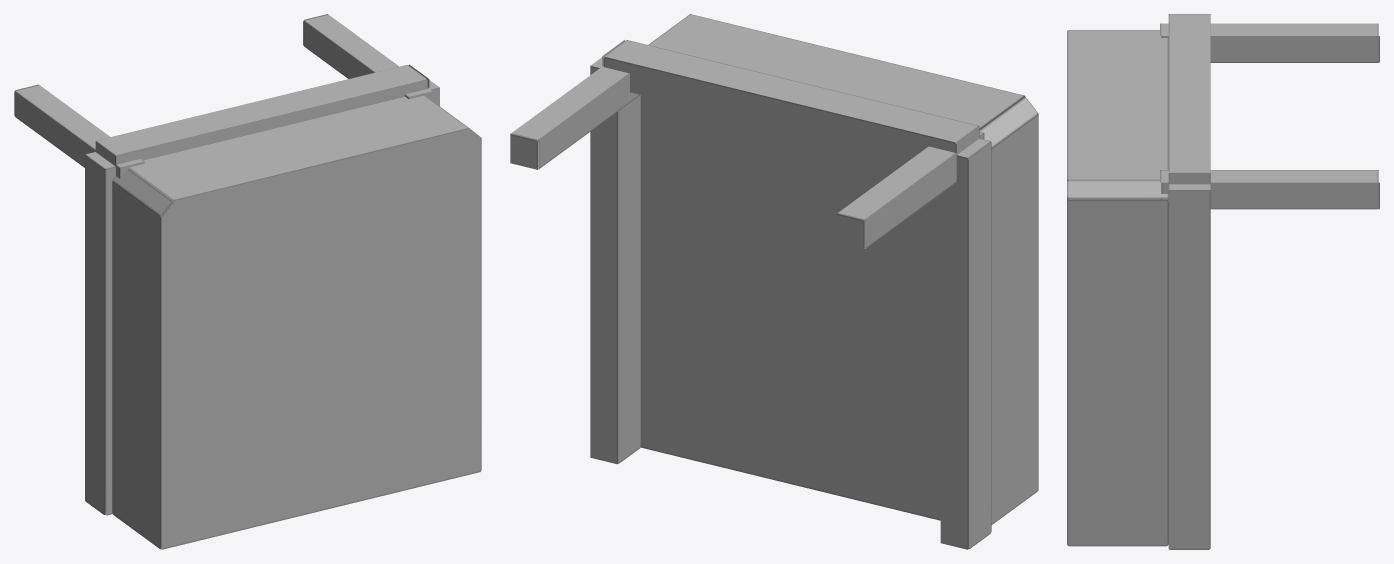
File: pz_bed_bedding_01_blue_0_1.obj
3 renders of one model, left to right at view 1: azimuth 30°, elevation 25°; view 2: azimuth 150°, elevation 25°; view 3: azimuth 270°, elevation 25°, orthographic. The views are drawn at different scales.
Size of the model in its own units: 0.95 by 0.97 by 0.74.
Materials: 1 (1 with a texture image).
